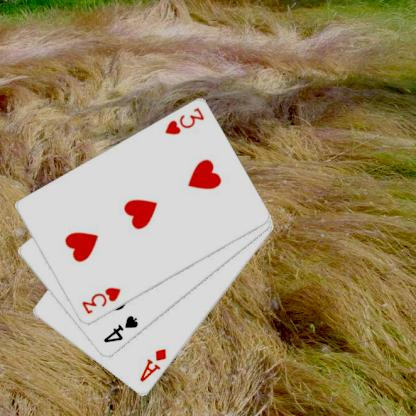3H: (162, 105, 206, 137), (78, 285, 122, 316)
4S: (100, 313, 140, 344)
AD: (136, 346, 168, 384)
